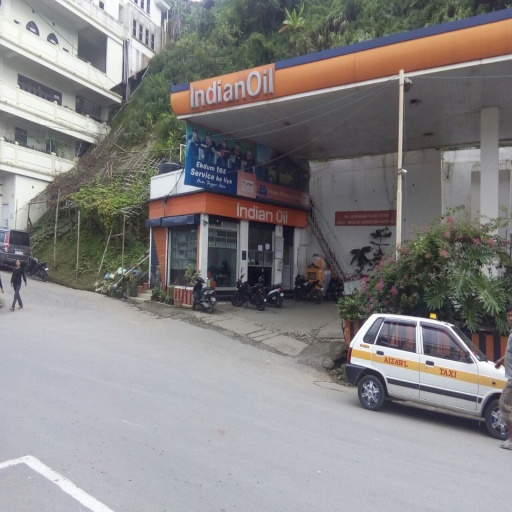roof: (172, 8, 512, 158)
